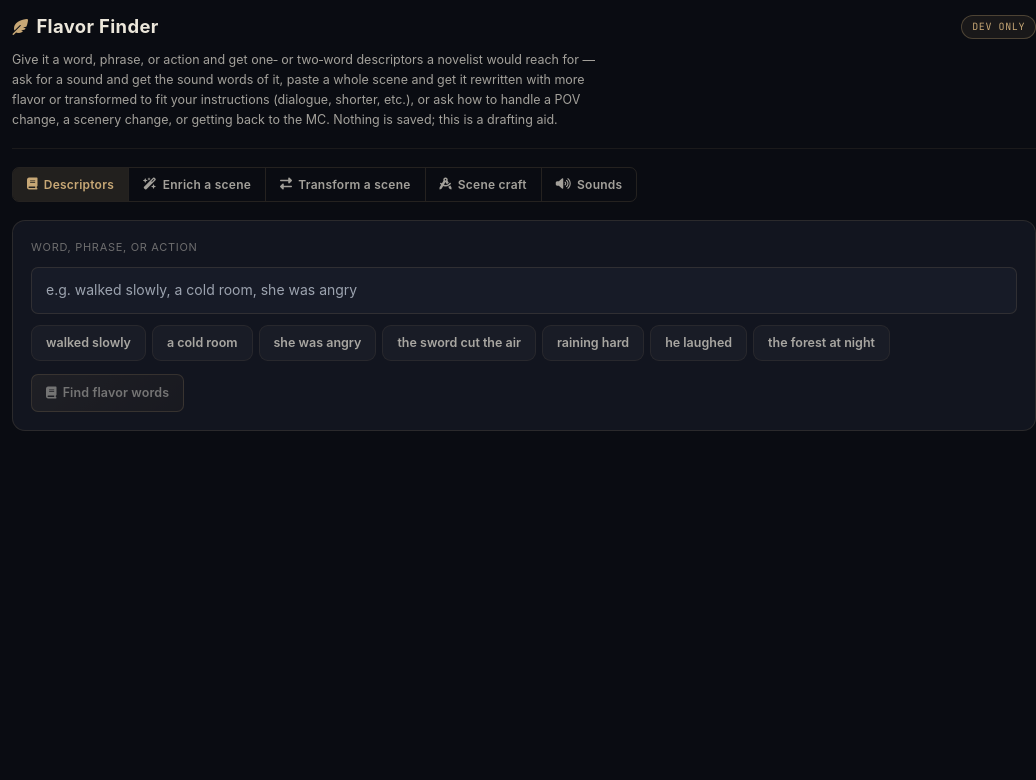
FlavorFinder — answered-by provider › names the fallback provider that answered
Type "walked slowly" into the field labelled "Word, phrase, or action" at (524, 290), box [31,267,1017,314]
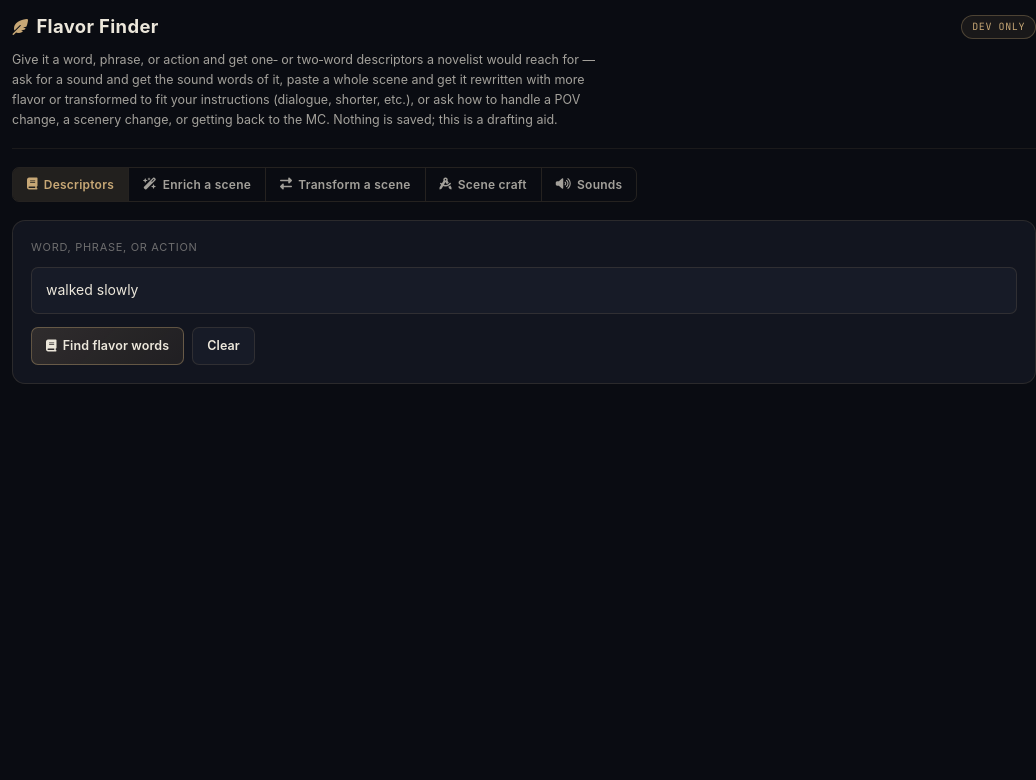
Click the button "Find flavor words" at (108, 346), box [31,327,184,365]
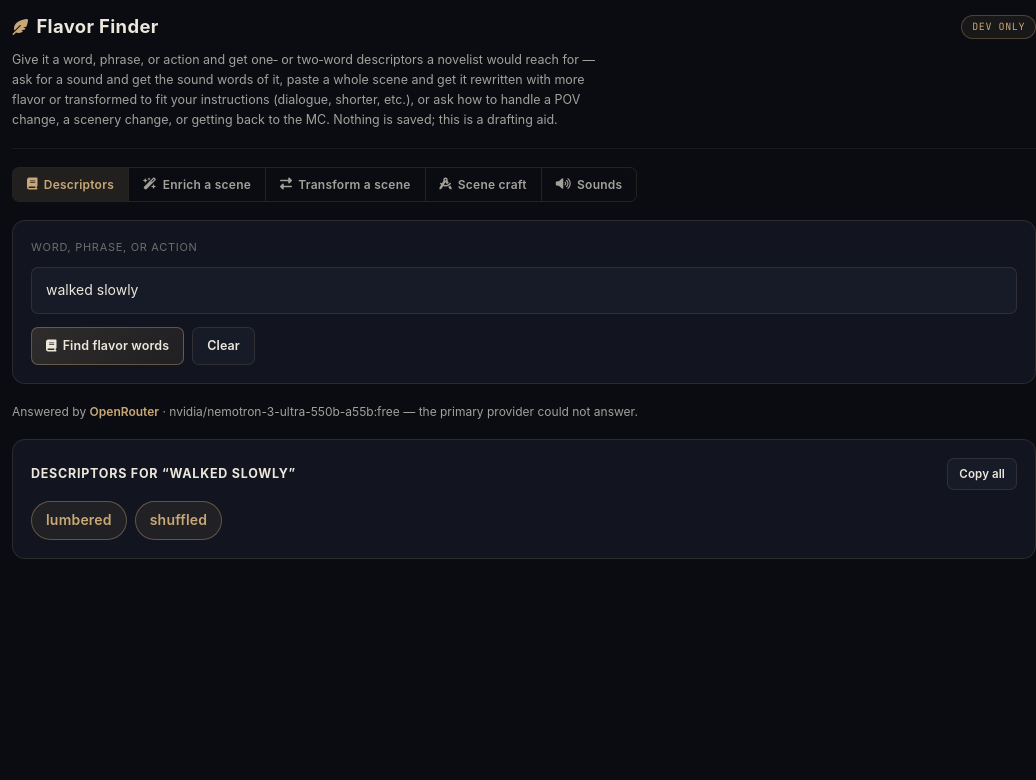
Expected: the text "OpenRouter" is shown, [90,404,159,419]
Expected: the text "nvidia/nemotron-3-ultra-550b-a55b:free" is shown, [159,404,400,419]
Expected: the text "the primary provider could not answer" is shown, [400,404,638,419]
